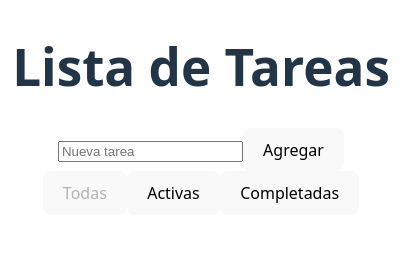
TodoList Component › elimina una tarea
The width and height of the screenshot is (405, 261).
Type "Tarea a eliminar" into the field with placeholder "Nueva tarea".
click(150, 151); type("Tarea a eliminar")  # box [58,141,243,162]
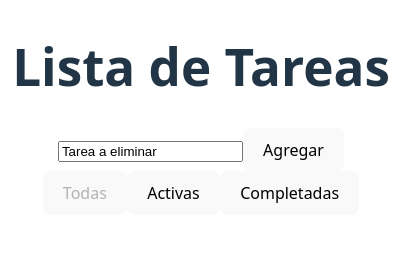
Click the button "Agregar".
click(294, 150)  # box [243,128,344,172]
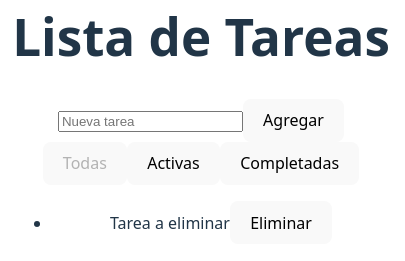
Click the button "Eliminar".
click(281, 223)  # box [230,201,332,244]
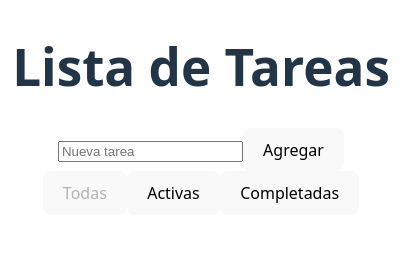
Result: the text "Tarea a eliminar" is gone
